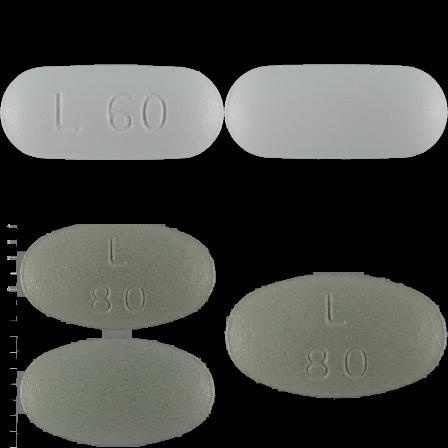63402-306: (0, 0, 224, 224)
